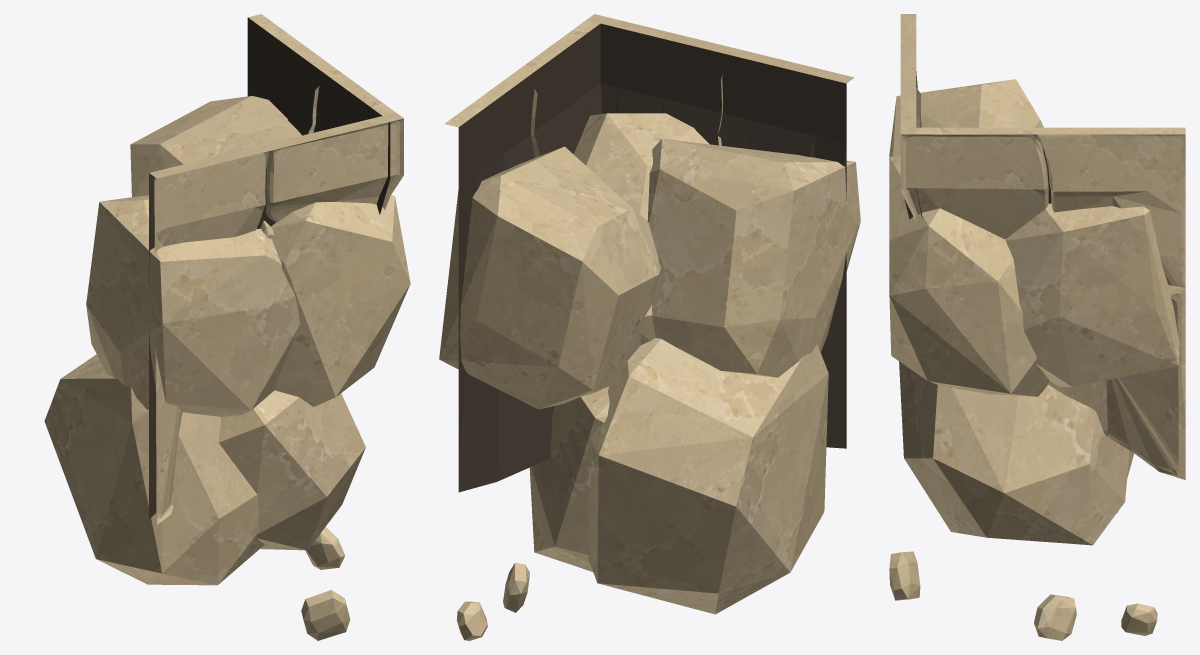
The model's file is ground_bottom_square_corner_09.glb.
3 views of the same model, side by side, from view 1: azimuth 30°, elevation 25°; view 2: azimuth 150°, elevation 25°; view 3: azimuth 270°, elevation 25° (orthographic). The views are drawn at different scales.
Visible parts, largest first — view 1: GroundBottomSquareCorner09_Body; view 2: GroundBottomSquareCorner09_Body; view 3: GroundBottomSquareCorner09_Body.
Boxes of the visible parts, x1,y1,x2,y2 form: GroundBottomSquareCorner09_Body: [44, 14, 410, 640]; GroundBottomSquareCorner09_Body: [439, 14, 860, 640]; GroundBottomSquareCorner09_Body: [889, 14, 1185, 640].
Size of the model in its own units: 1.04 by 1.97 by 1.04.
8 materials, 7 textured.
